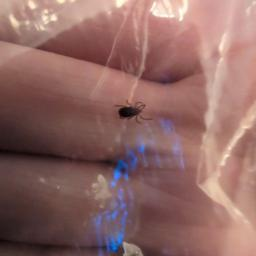Ixodes scapularis: (114, 103, 153, 124)
